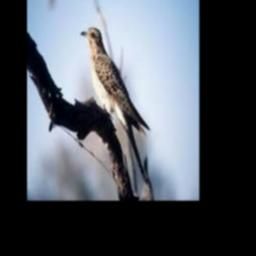Cuckoo: (81, 27, 150, 183)
